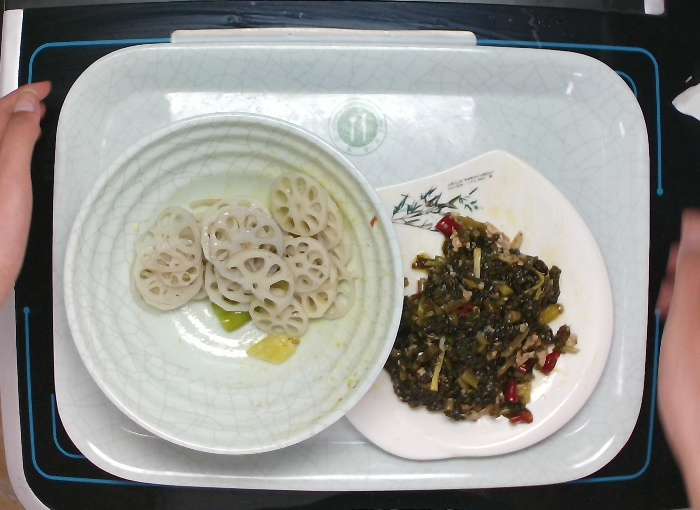JYsf-Da_Tang_Wan: (53, 104, 406, 461)
JYsf-Mian_Pan: (321, 146, 624, 465)
